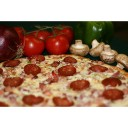pepperonipizza: (2, 57, 128, 108)
